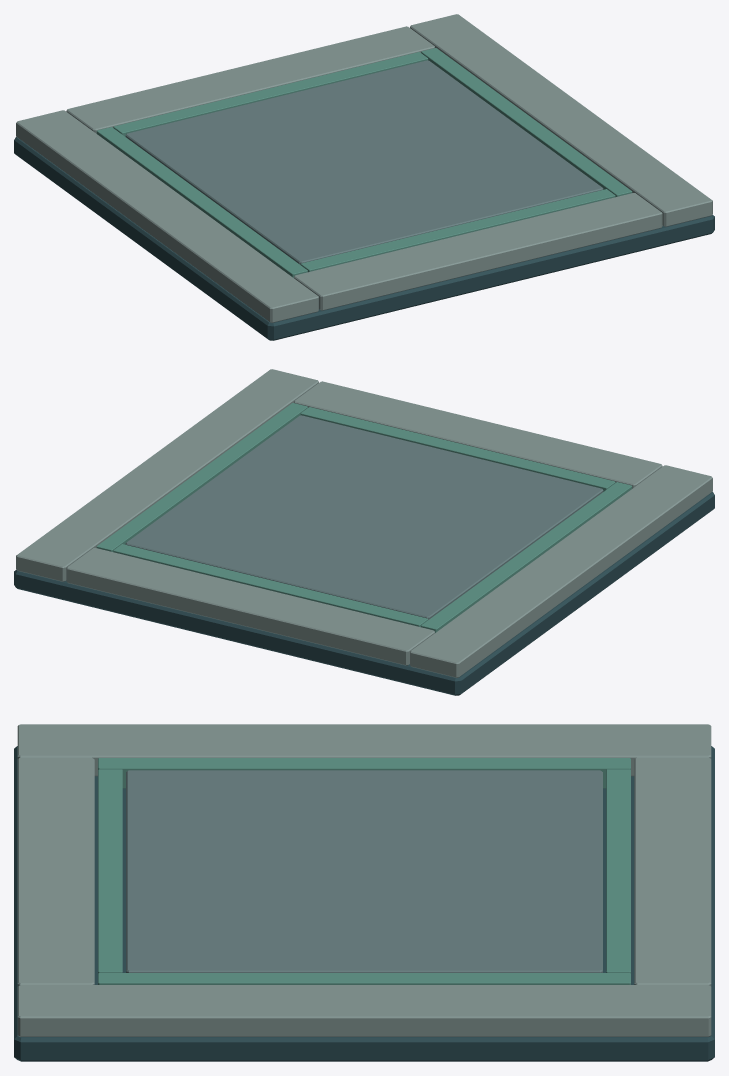
File: floor-inset.glb
3 views of the same model, one above another, from view 1: azimuth 30°, elevation 25°; view 2: azimuth 150°, elevation 25°; view 3: azimuth 270°, elevation 25° (orthographic). The views are drawn at different scales.
Parts seen in each view (by area): view 1: floor-inset__body; view 2: floor-inset__body; view 3: floor-inset__body.
Part boxes in pixels (box(x1,y1,x2,y2)): floor-inset__body: box(14, 14, 714, 340); floor-inset__body: box(14, 369, 714, 695); floor-inset__body: box(14, 724, 714, 1061).
Bounding box in the file's own units: 2 × 0.14 × 2.
